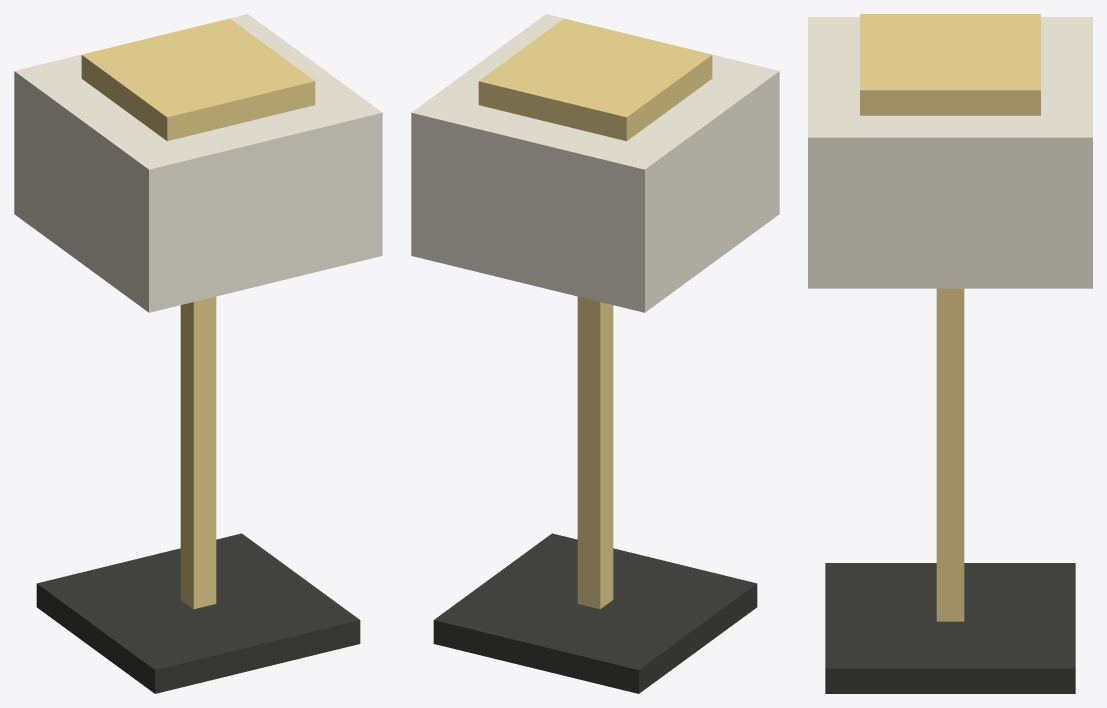
Rendered from floor_lamp.glb.
The picture shows the model from 3 angles, left to right: view 1: azimuth 30°, elevation 25°; view 2: azimuth 150°, elevation 25°; view 3: azimuth 270°, elevation 25°; orthographic projection. The views are drawn at different scales.
Size of the model in its own units: 0.82 by 1.87 by 0.82.
